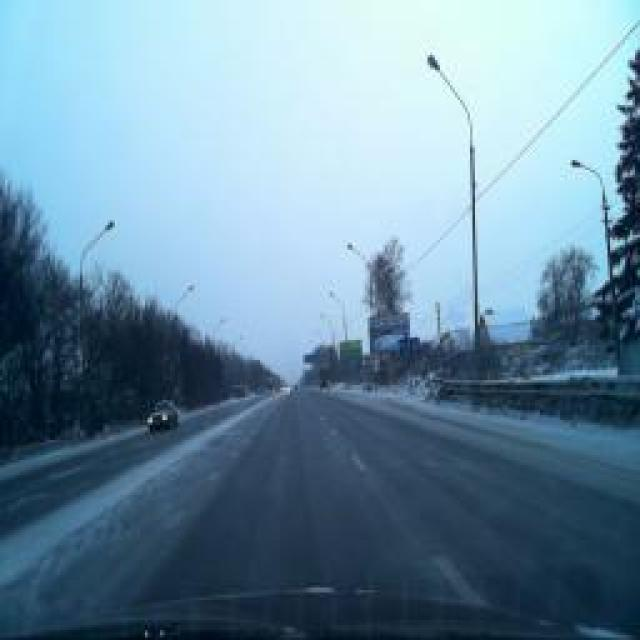sign: (398, 338, 420, 358)
